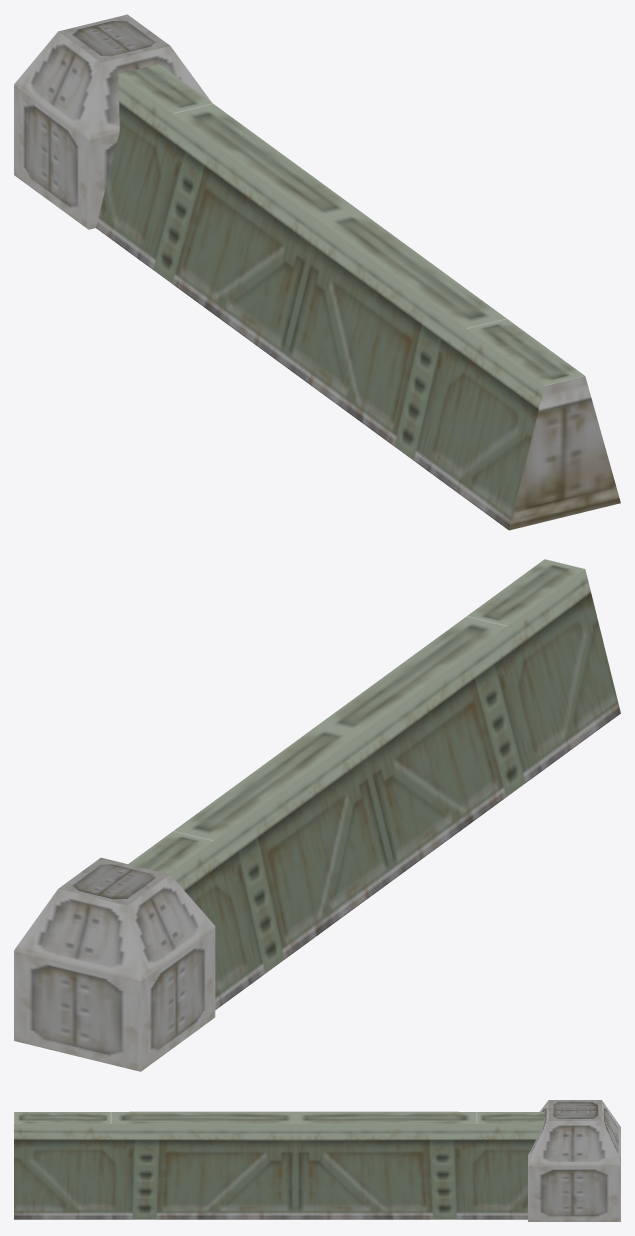
Rendered from l_lightwall.glb.
The picture shows the model from 3 angles, top to bottom: view 1: azimuth 30°, elevation 25°; view 2: azimuth 150°, elevation 25°; view 3: azimuth 270°, elevation 25°; orthographic projection. The views are drawn at different scales.
Parts seen in each view (by area): view 1: L_LightWall; view 2: L_LightWall; view 3: L_LightWall.
Boxes of the visible parts, x1,y1,x2,y2 form: L_LightWall: (14, 14, 620, 530); L_LightWall: (14, 559, 620, 1071); L_LightWall: (14, 1100, 620, 1221).
Size of the model in its own units: 4.16 by 4.63 by 27.68.
Materials: 1 (1 with a texture image).
